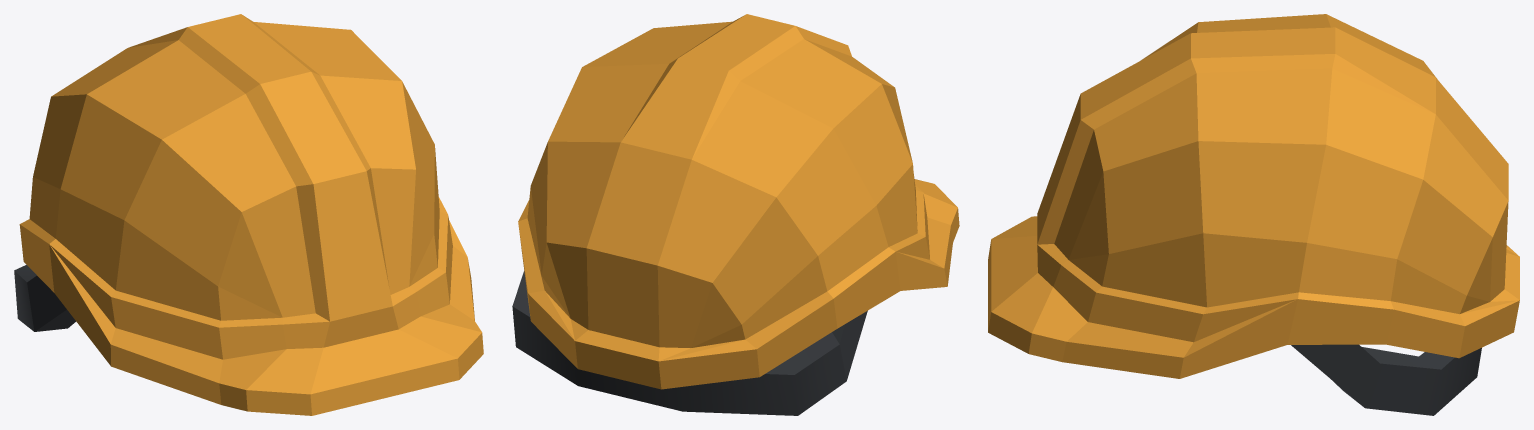
Rendered from SM_Chr_Attach_Helmet_01.fbx.
3 views of the same model, side by side, from view 1: azimuth 30°, elevation 25°; view 2: azimuth 150°, elevation 25°; view 3: azimuth 270°, elevation 25° (orthographic). The views are drawn at different scales.
Visible parts, largest first — view 1: SM_Chr_Attach_Helmet_01; view 2: SM_Chr_Attach_Helmet_01; view 3: SM_Chr_Attach_Helmet_01.
Boxes of the visible parts, x1=… form: SM_Chr_Attach_Helmet_01: x1=14, y1=14, x2=483, y2=415; SM_Chr_Attach_Helmet_01: x1=512, y1=14, x2=959, y2=415; SM_Chr_Attach_Helmet_01: x1=988, y1=14, x2=1519, y2=415.
Size of the model in its own units: 29.63 by 23.26 by 36.63.
